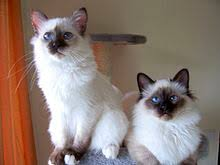cat: (27, 5, 94, 66), (132, 69, 199, 126)
